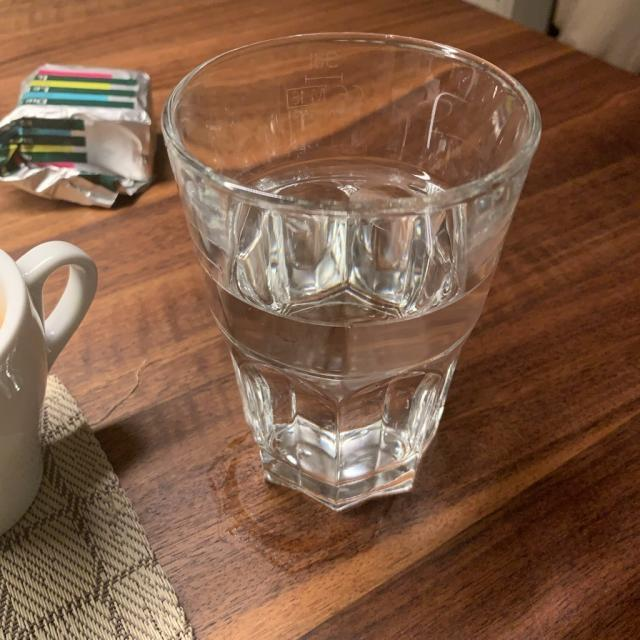water: (211, 169, 483, 491)
